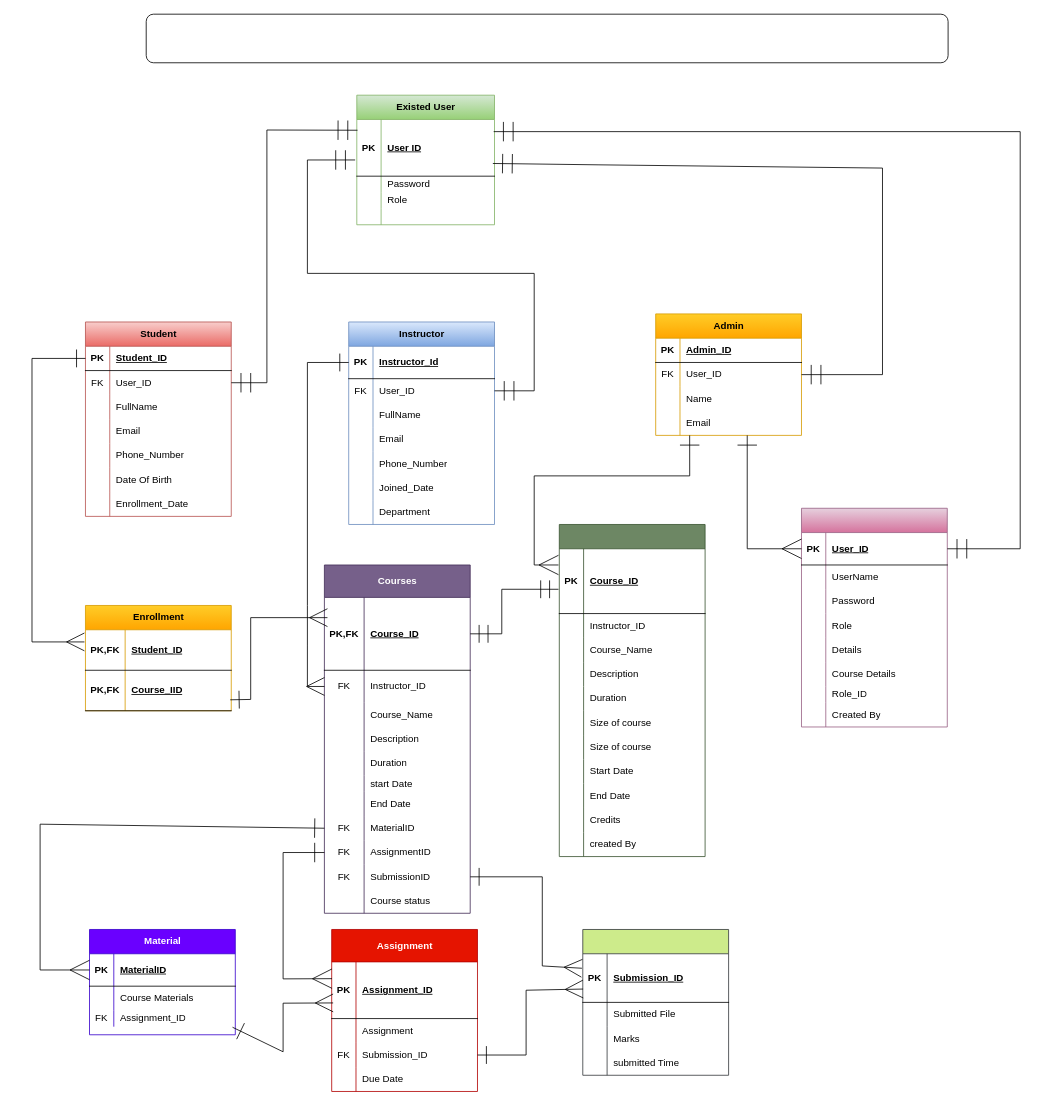
Image size: 1055x1106. Some labels were removed from this diagram. Here are the shapes that lost their labels. From the top down, the box of each, then its label:
(145, 13, 948, 63): ER Diagram of LMS (Learning Management System) Portal
(801, 507, 947, 727): New_user
(558, 524, 705, 857): New_Course
(582, 929, 729, 1075): Submissions
